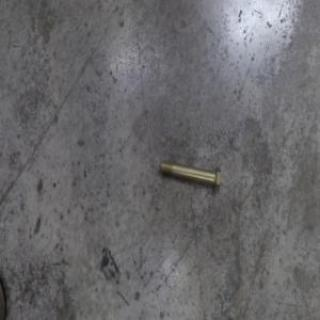Bolttrack_idkeyframe: (157, 159, 220, 193)
